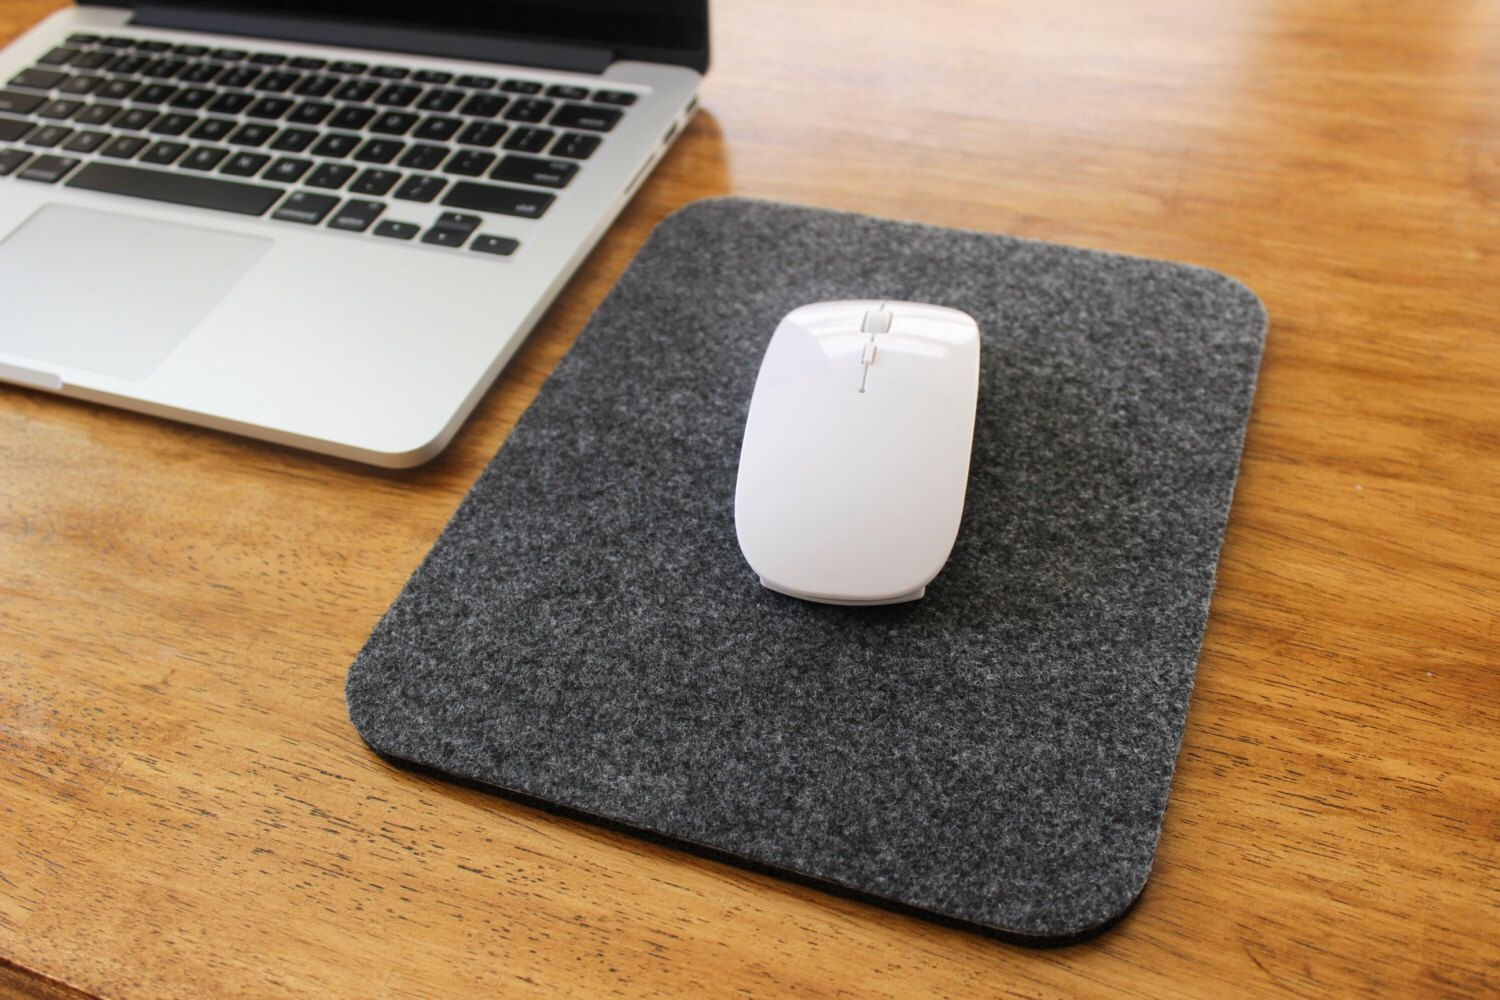mouse: (719, 263, 1000, 635)
